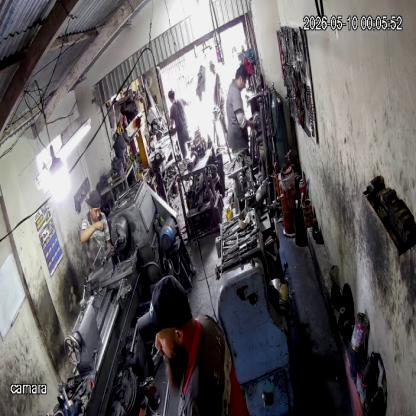sin_lentes: (91, 204, 102, 216)
